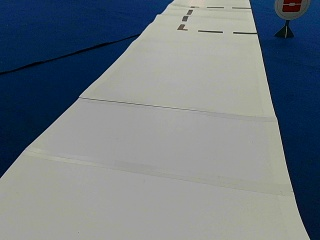company: (274, 0, 307, 19)
